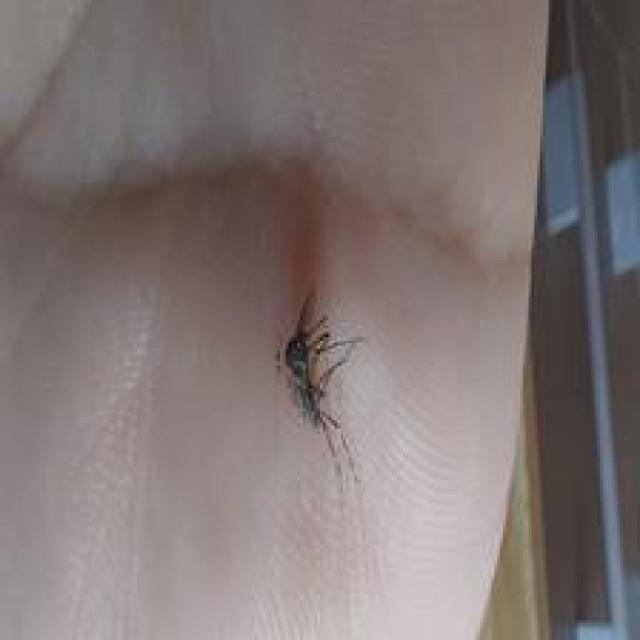Aedes albopictus: (273, 284, 367, 496)
